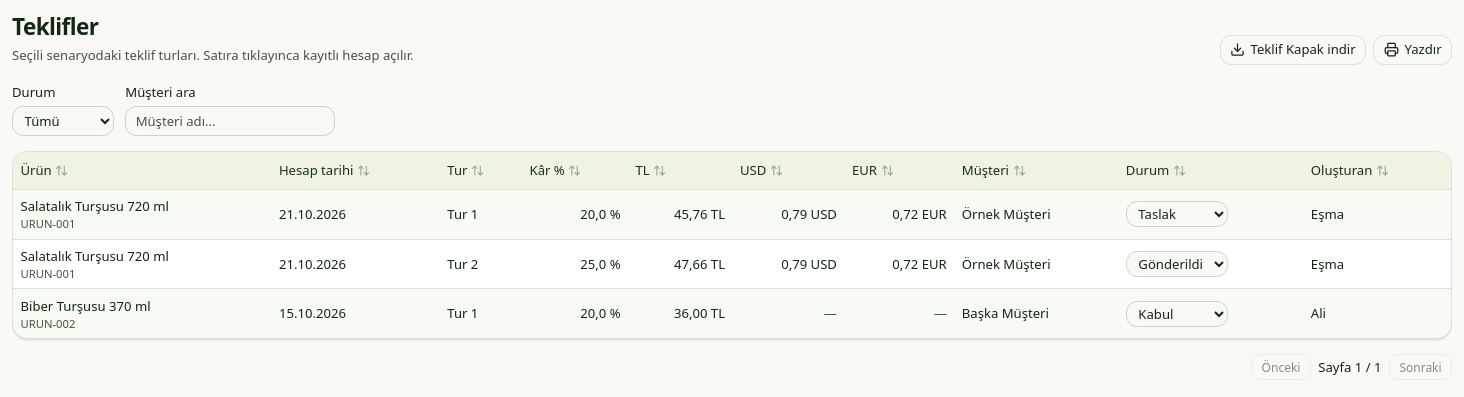
Test: Teklifler › durum ve müşteri süzmesi sunucuya sorgu parametresi olarak gider
The image size is (1464, 397).
Expected: the text "Başka Müşteri" is shown, [954,289,1118,338]
Select "Kabul" in the dropdown labelled "Durum". click: (63, 121)
box: [12,106,114,136]
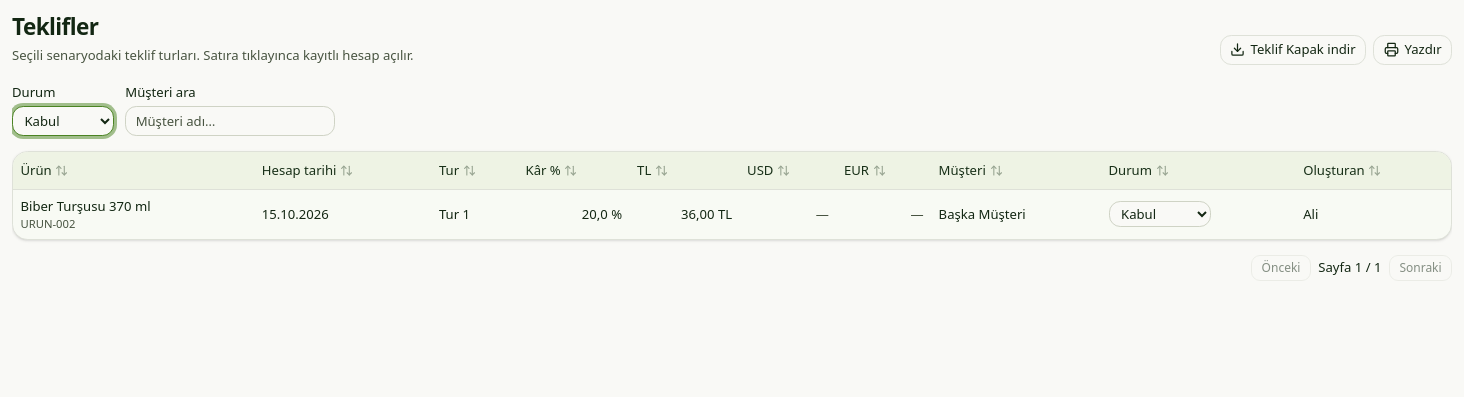
Now the number of rows is 2, box [13,152,1451,189]; [13,189,1451,239]
Now the text "Başka Müşteri" is shown, box [931,189,1101,239]
Select "Tümü" in the dropdown labelled "Durum". click: (63, 121)
box: [12,106,114,136]
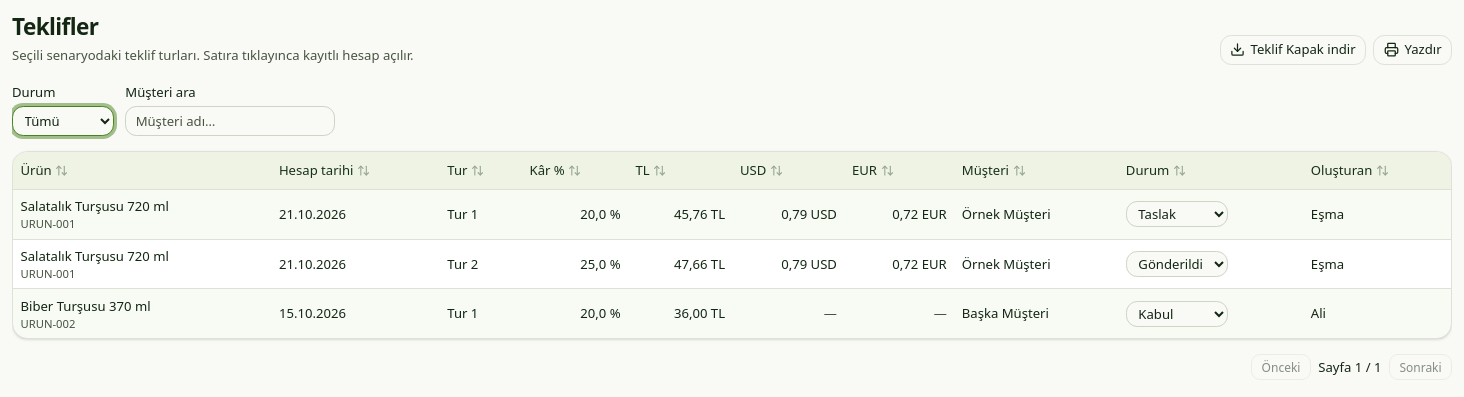
Type "örnek" into the search field labelled "Müşteri ara". click: (230, 121)
box: [125,106,335,136]
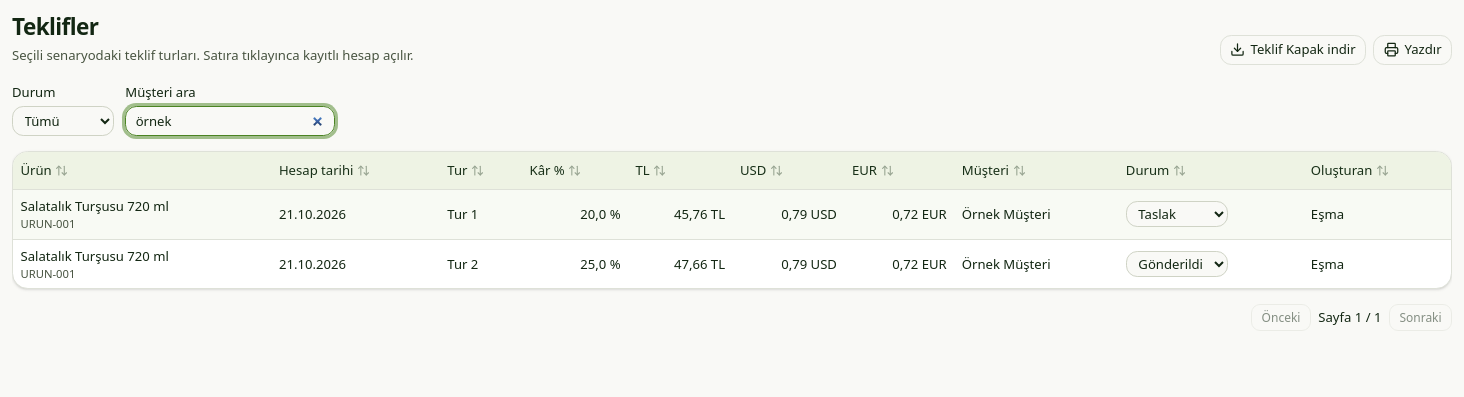
Now the number of rows is 3, box [13,152,1451,189]; [13,189,1451,239]; [13,239,1451,288]
Now the text "Başka Müşteri" is gone
